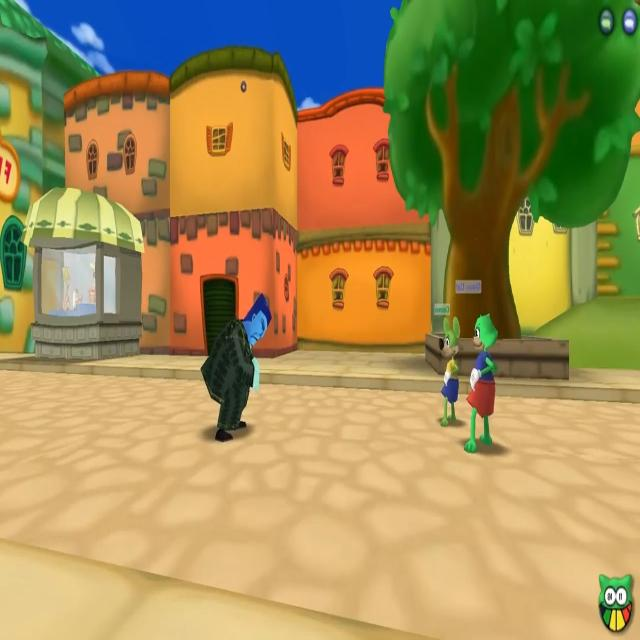shortchange: (200, 278, 256, 441), (202, 291, 272, 421)
